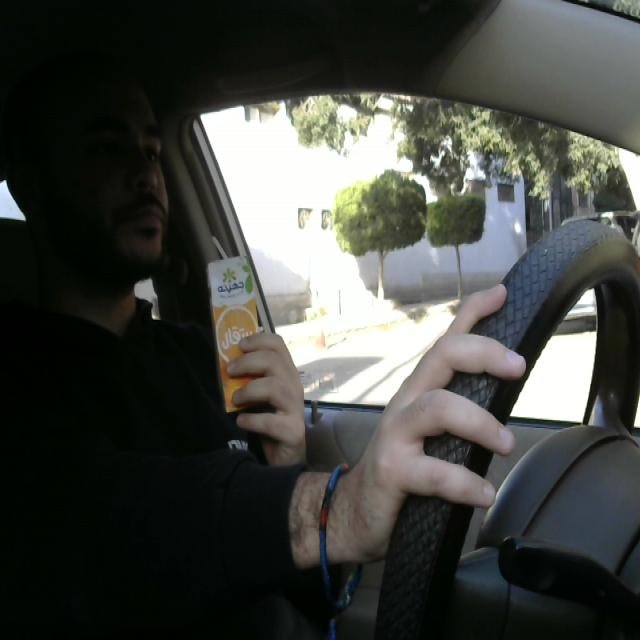drinking: (205, 227, 268, 416)
